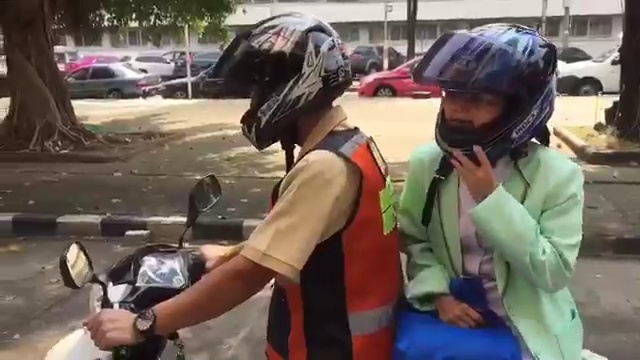helmet: (415, 9, 567, 159), (208, 14, 363, 151)
